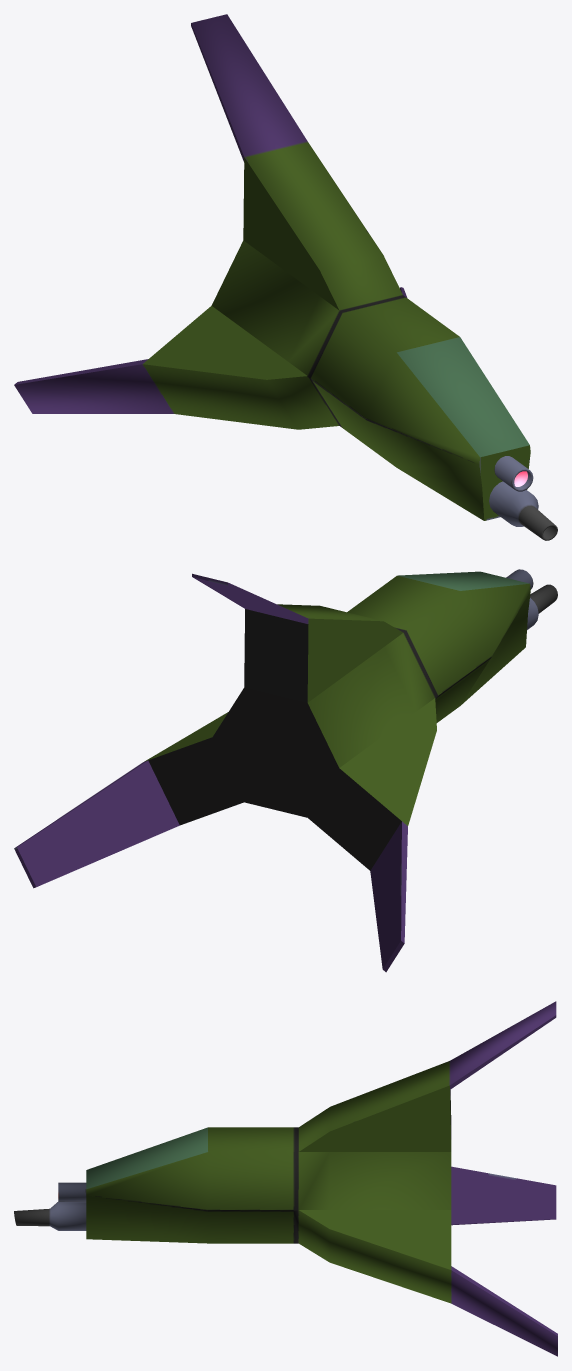
File: enemy2.glb
The picture shows the model from 3 angles, top to bottom: view 1: azimuth 30°, elevation 25°; view 2: azimuth 150°, elevation 25°; view 3: azimuth 270°, elevation 25°; orthographic projection. The views are drawn at different scales.
Parts seen in each view (by area): view 1: Ship; view 2: Ship; view 3: Ship.
Boxes of the visible parts, left/top/right/bottom form: Ship: left=14, top=14, right=557, bottom=540; Ship: left=14, top=569, right=557, bottom=972; Ship: left=14, top=1001, right=557, bottom=1356.
Size of the model in its own units: 13.01 by 11.24 by 19.76.
3 materials, 1 textured.
